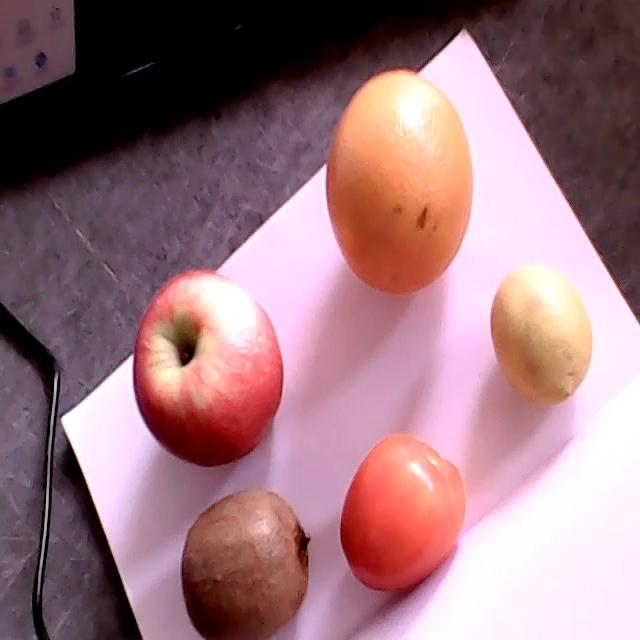apple: (133, 270, 283, 467)
kiwi: (181, 490, 311, 639)
lemon: (490, 263, 593, 406)
orange: (325, 70, 472, 292)
tomato: (340, 435, 467, 591)
